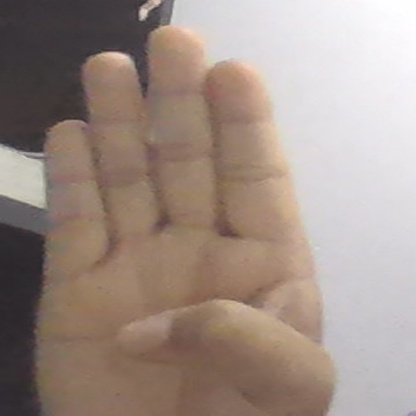B: (35, 24, 338, 407)
